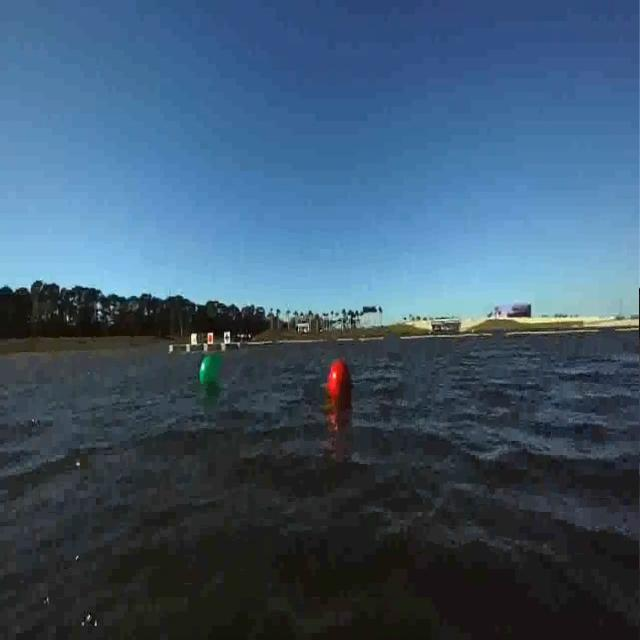green-buoy: (199, 352, 226, 382)
red-buoy: (327, 361, 352, 405)
